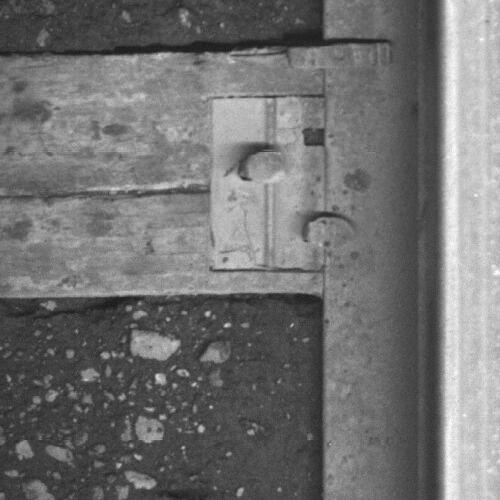crutch: (285, 40, 394, 69)
do: (209, 96, 356, 271)
hole_do: (295, 117, 338, 155)
rail: (438, 1, 500, 500)
tie_wood: (1, 53, 323, 295)
wood_crack: (1, 179, 210, 207)
